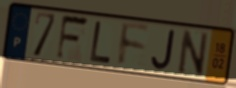7: (33, 11, 57, 59)
F: (55, 14, 91, 63), (117, 21, 151, 69)
J: (150, 27, 178, 72)
L: (88, 19, 113, 65)
N: (176, 28, 210, 77)
